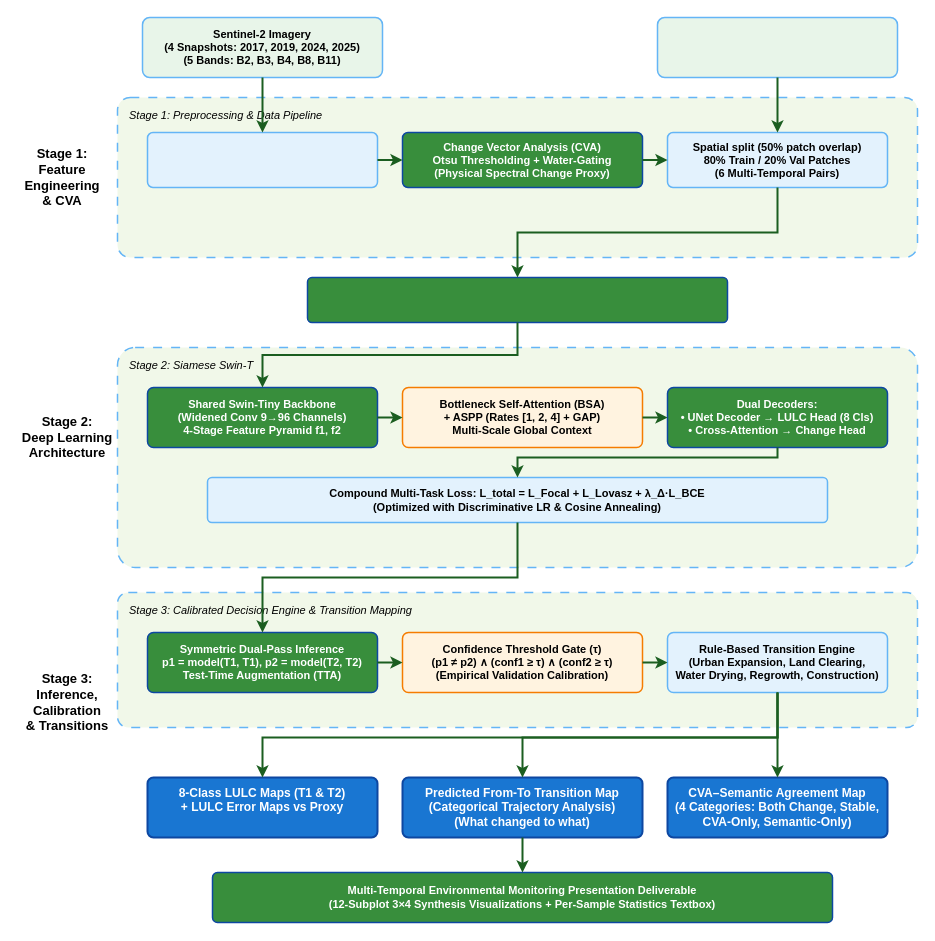
Some shapes in this 935 by 941 pixel diagram are drawn without their labels. Here are the shapes that lost their labels. From the top down, the centre of each, then its label:
At pixel 777 47: "ESA WorldCover 2021 (Proxy Reference Labels) (8 Land Cover Classes)".
At pixel 262 159: "9-Band Feature Engineering (NDVI, NDWI, NDBI, MNDWI) Normalized [0, 1] Tensor".
At pixel 517 299: "Sample Pair Generator (Temporal Pairs x1, x2 + Proxy Label y + CVA Mask m)".
